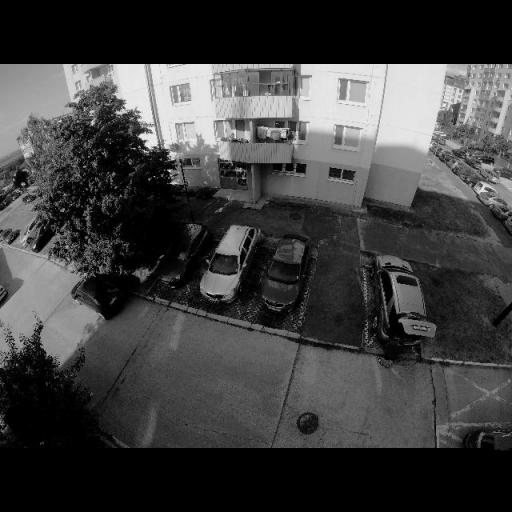busy: (368, 258, 432, 347), (252, 230, 316, 311), (200, 224, 261, 304), (158, 226, 206, 288), (446, 411, 512, 449)
free: (310, 271, 368, 331)
